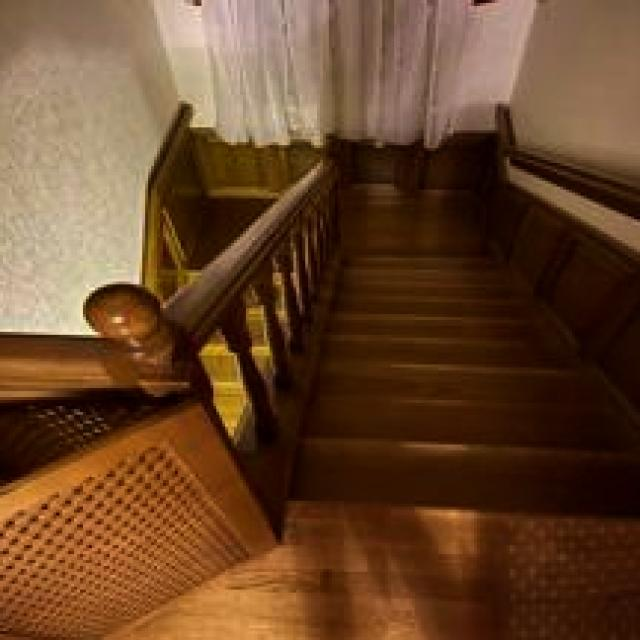downstair: (282, 304, 640, 532)
